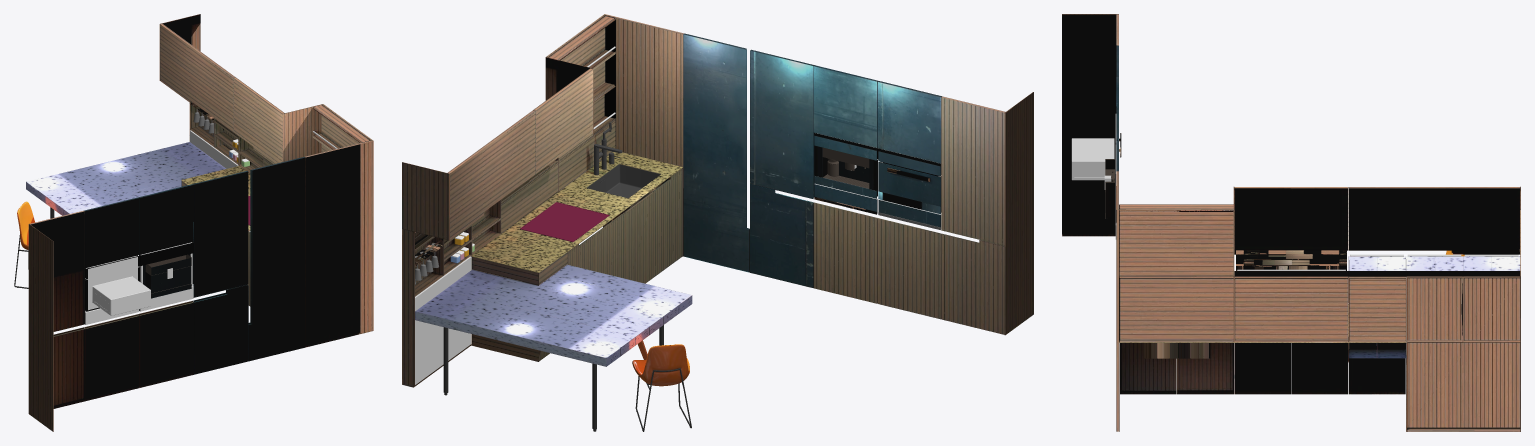
Rendered from kitchen.gltf.
3 views of the same model, side by side, from view 1: azimuth 30°, elevation 25°; view 2: azimuth 150°, elevation 25°; view 3: azimuth 270°, elevation 25° (orthographic). The views are drawn at different scales.
Visible parts, largest first — view 1: Element038, Element034, Object2011, Box184333, Box184312, Object2023, ICS002, Object2026, Box184316, Box184337; view 2: Element038, Element034, Object2011, Object2026, Object2023, Stove001, ICS002, Sink001, Object2029, Object2012, Object2019; view 3: Element038, Object2011, Object2015, Box184333, Object2028, Element034.
Boxes of the visible parts, bbox=[...] form: Element038: bbox=[28, 14, 373, 431]; Element034: bbox=[84, 157, 305, 374]; Object2011: bbox=[26, 142, 226, 215]; Box184333: bbox=[88, 257, 150, 315]; Box184312: bbox=[140, 242, 193, 265]; Object2023: bbox=[190, 130, 238, 168]; ICS002: bbox=[17, 201, 34, 249]; Object2026: bbox=[181, 166, 250, 230]; Box184316: bbox=[139, 286, 193, 311]; Box184337: bbox=[85, 308, 138, 324]; Element038: bbox=[402, 14, 1033, 387]; Element034: bbox=[683, 33, 941, 287]; Object2011: bbox=[415, 264, 692, 366]; Object2026: bbox=[472, 152, 682, 272]; Object2023: bbox=[415, 256, 471, 384]; Stove001: bbox=[520, 202, 609, 241]; ICS002: bbox=[632, 340, 689, 386]; Sink001: bbox=[587, 164, 660, 198]; Object2029: bbox=[604, 15, 615, 148]; Object2012: bbox=[443, 325, 663, 431]; Object2019: bbox=[822, 147, 869, 188]; Element038: bbox=[1062, 14, 1520, 431]; Object2011: bbox=[1348, 256, 1520, 358]; Object2015: bbox=[1236, 250, 1346, 271]; Box184333: bbox=[1071, 138, 1114, 180]; Object2028: bbox=[1143, 343, 1210, 358]; Element034: bbox=[1105, 45, 1118, 222].
Bounding box in the file's own units: 3.78 × 2.08 × 3.75.
38 materials, 5 textured.
